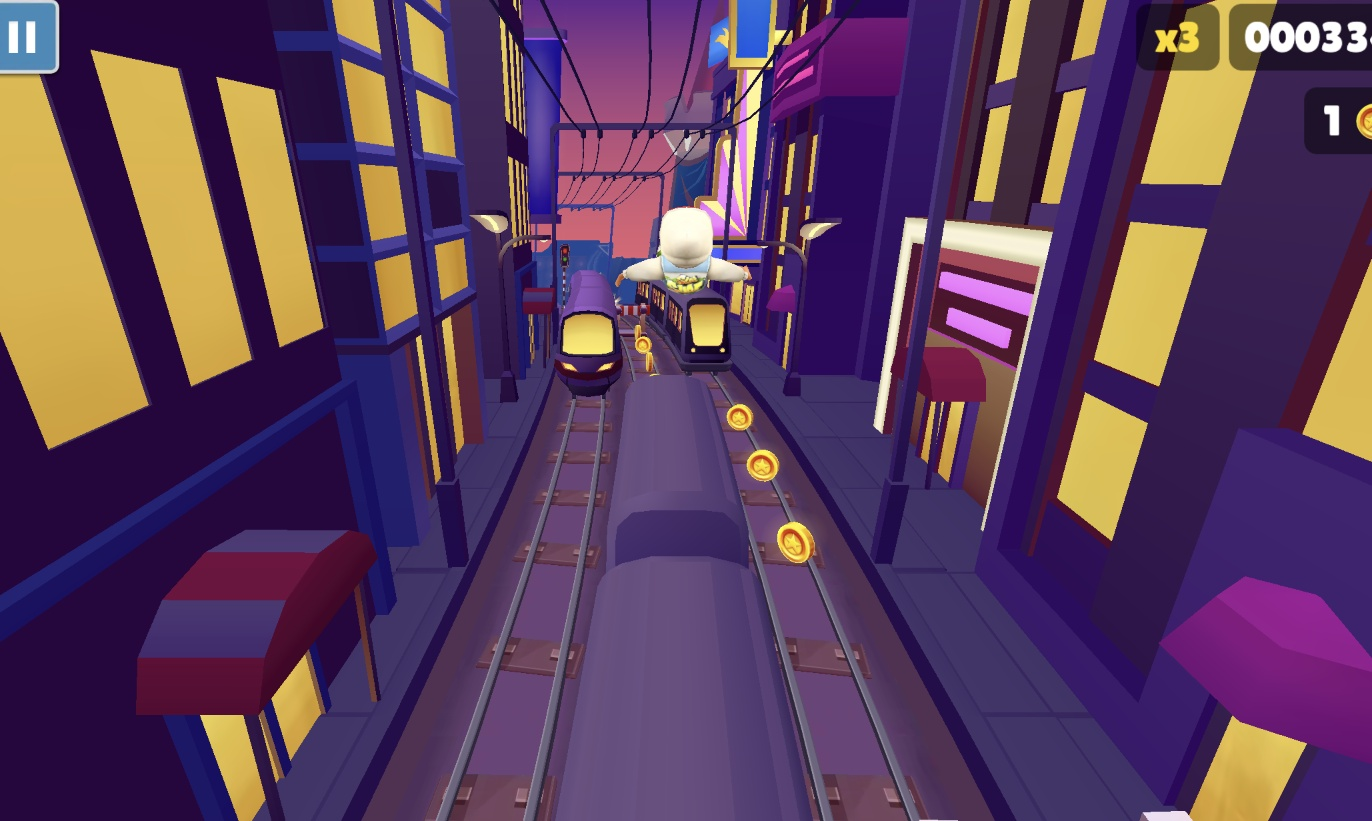ground_barrier: (615, 300, 651, 340)
train: (536, 379, 822, 821), (552, 307, 625, 396), (671, 285, 735, 370)
